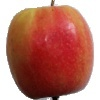apple: (5, 5, 95, 100)
